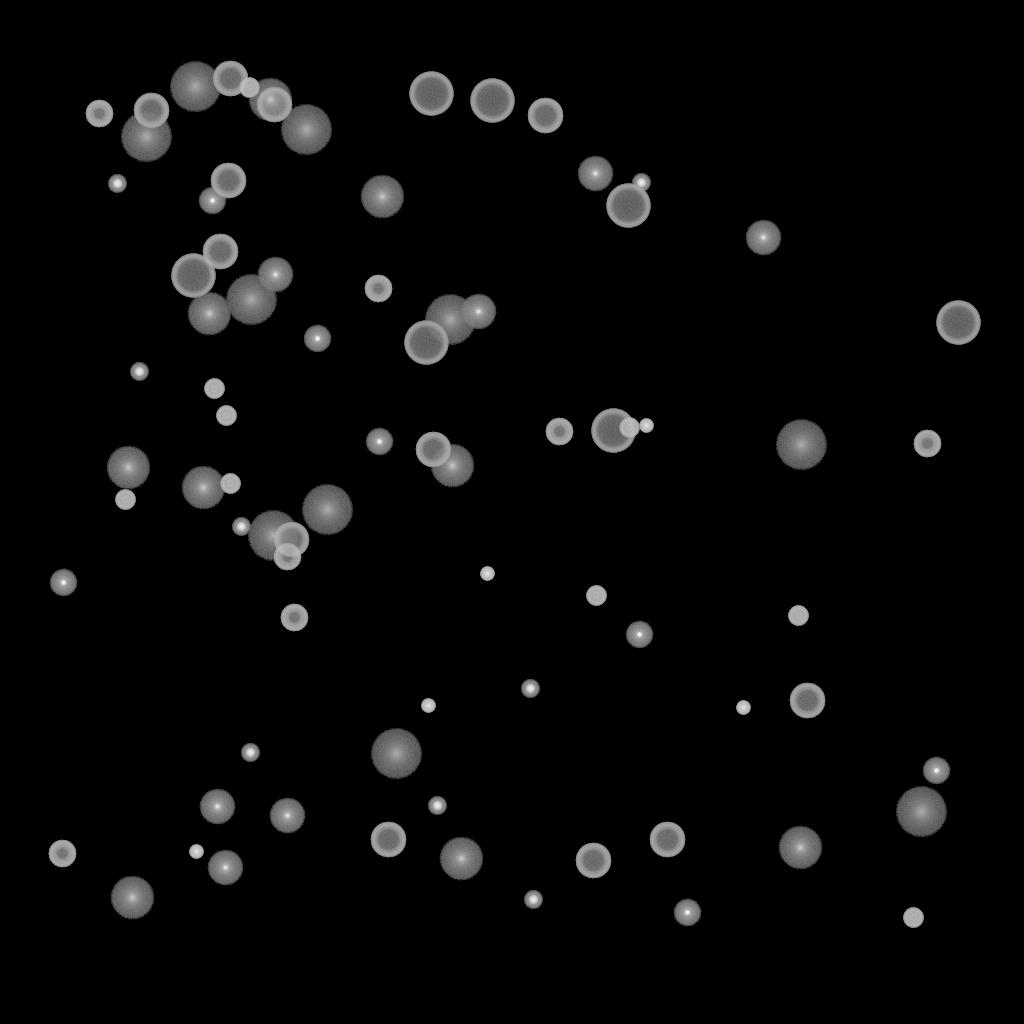depth:-10: (673, 899, 701, 927), (49, 569, 77, 597), (922, 757, 950, 785), (198, 187, 226, 215), (365, 428, 393, 456), (625, 621, 653, 649), (303, 325, 331, 353)
depth:-20: (232, 518, 250, 536), (524, 891, 542, 909), (130, 363, 148, 381), (521, 680, 539, 698), (632, 174, 650, 192), (108, 175, 126, 193), (241, 744, 259, 762), (428, 797, 446, 815)
depth:-30: (480, 567, 494, 581), (639, 419, 653, 433), (421, 699, 435, 713), (736, 701, 750, 715), (189, 845, 203, 859)
depth:-40: (204, 379, 224, 399), (586, 586, 606, 606), (788, 606, 808, 626), (239, 78, 259, 98), (115, 490, 135, 510), (220, 474, 240, 494), (903, 908, 923, 928), (216, 406, 236, 426), (619, 418, 639, 438)
depth:-50: (545, 418, 573, 446), (280, 604, 308, 632), (913, 430, 941, 458), (48, 840, 76, 868), (364, 275, 392, 303), (85, 100, 113, 128), (273, 543, 301, 571)
depth:-60: (415, 432, 451, 468), (789, 683, 825, 719), (370, 822, 406, 858), (210, 163, 246, 199), (202, 234, 238, 270), (575, 843, 611, 879), (527, 98, 563, 134), (256, 87, 292, 123), (212, 61, 248, 97), (273, 522, 309, 558), (649, 822, 685, 858), (133, 93, 169, 129)
depth:-70: (404, 321, 448, 365), (470, 79, 514, 123), (591, 409, 635, 453), (936, 301, 980, 345), (409, 72, 453, 116), (171, 254, 215, 298), (606, 184, 650, 228)
depth:0: (745, 220, 781, 256), (207, 850, 243, 886), (577, 156, 613, 192), (257, 257, 293, 293), (199, 789, 235, 825), (460, 294, 496, 330), (269, 798, 305, 834)
depth:10: (106, 446, 150, 490), (248, 78, 292, 122), (110, 876, 154, 920), (360, 175, 404, 219), (187, 292, 231, 336), (430, 444, 474, 488), (439, 837, 483, 881), (181, 466, 225, 510), (778, 826, 822, 870)
depth:20: (301, 485, 353, 535), (120, 112, 172, 162), (225, 275, 277, 325), (775, 420, 827, 470), (169, 62, 221, 112), (280, 105, 332, 155), (424, 295, 476, 345), (895, 787, 947, 837), (370, 729, 422, 779), (247, 511, 299, 561)
